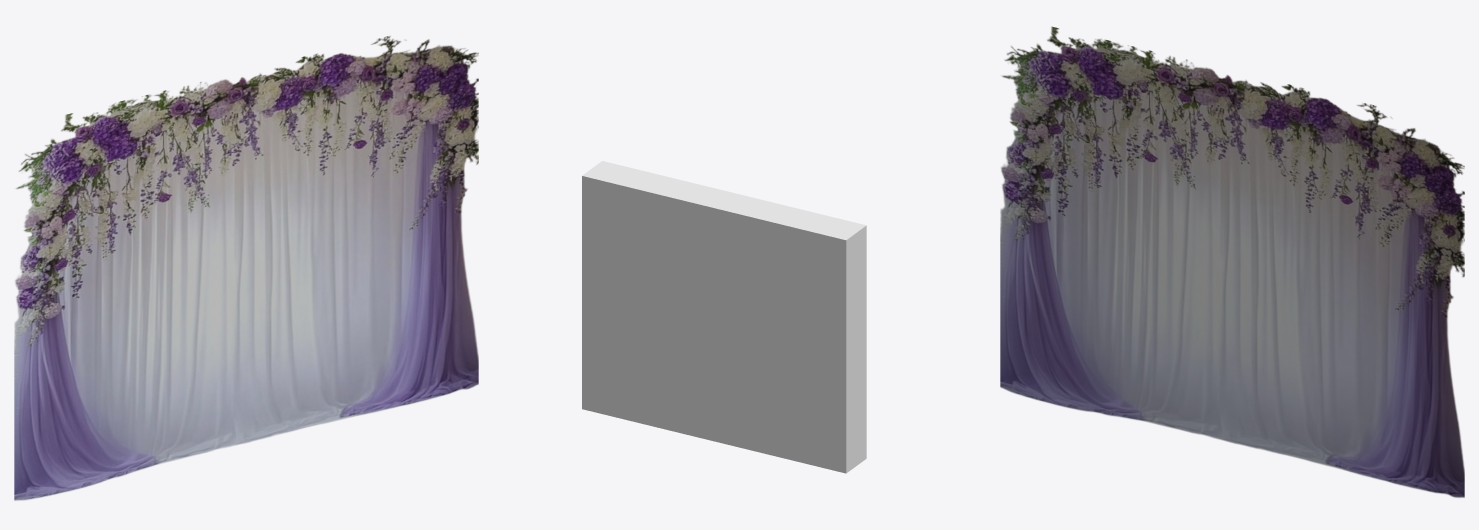
File: indoor-wedding-lavendor.glb
3 renders of one model, left to right at view 1: azimuth 30°, elevation 25°; view 2: azimuth 150°, elevation 25°; view 3: azimuth 330°, elevation 25°, orthographic.
Visible parts, largest first — view 1: Plane; view 2: Box; view 3: Plane.
Part boxes in pixels (box(x1,y1,x2,y2)): Plane: box(14, 36, 478, 500); Box: box(582, 161, 866, 473); Plane: box(1000, 26, 1464, 497).
Size of the model in its own units: 6.23 by 4.98 by 0.6411.
2 materials, 1 textured.
